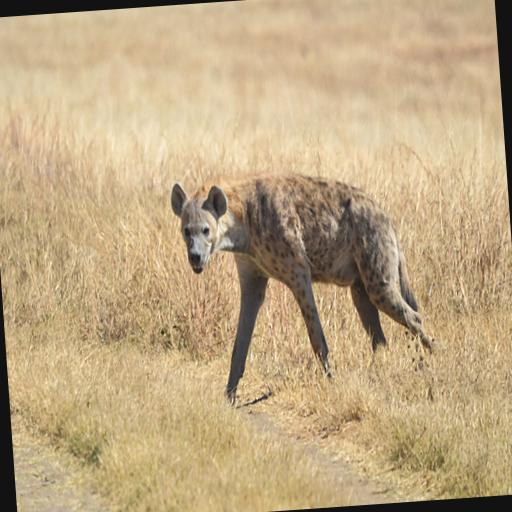hyenas: (138, 138, 468, 416)
